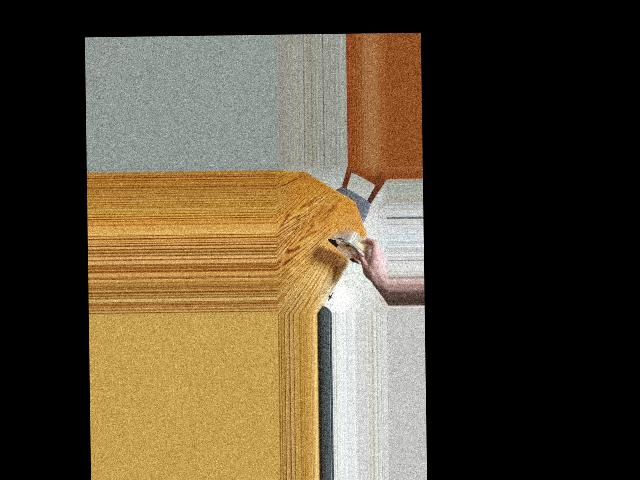cheese: (332, 219, 373, 270)
